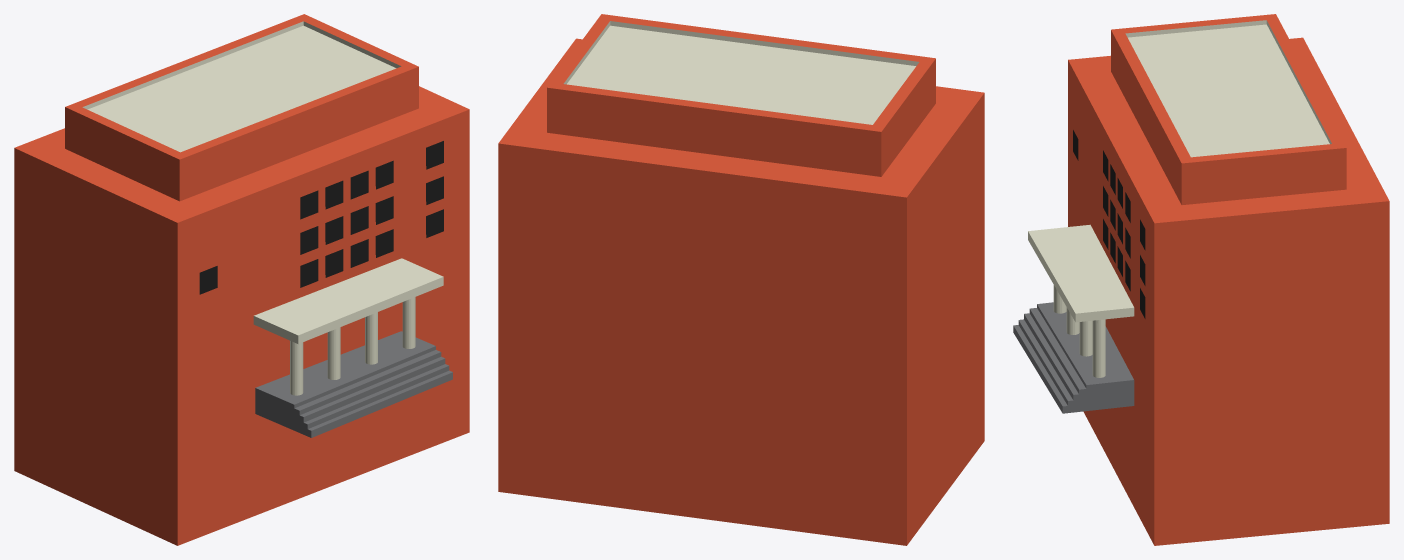
Rendered from Bisa Hall.fbx.
3 renders of one model, left to right at view 1: azimuth 30°, elevation 25°; view 2: azimuth 150°, elevation 25°; view 3: azimuth 270°, elevation 25°, orthographic. The views are drawn at different scales.
Parts seen in each view (by area): view 1: Bisa Hall; view 2: Bisa Hall; view 3: Bisa Hall.
Part boxes in pixels (left/top/right/bottom): Bisa Hall: left=14, top=14, right=469, bottom=545; Bisa Hall: left=498, top=14, right=984, bottom=545; Bisa Hall: left=1013, top=14, right=1389, bottom=545.
Bounding box in the file's own units: 365 × 334 × 312.
